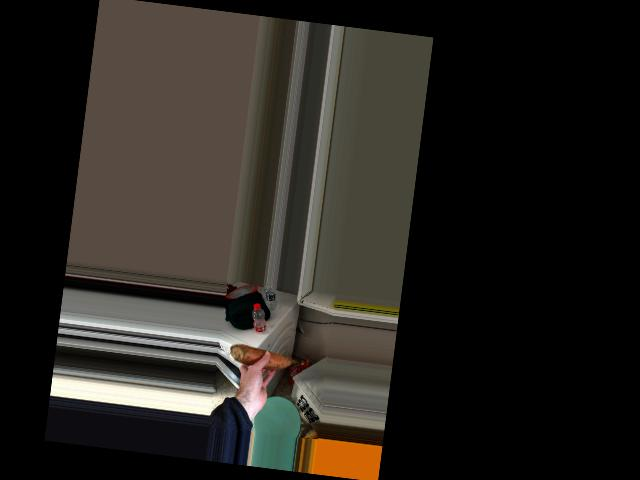sweet_potato: (237, 350, 291, 371)
